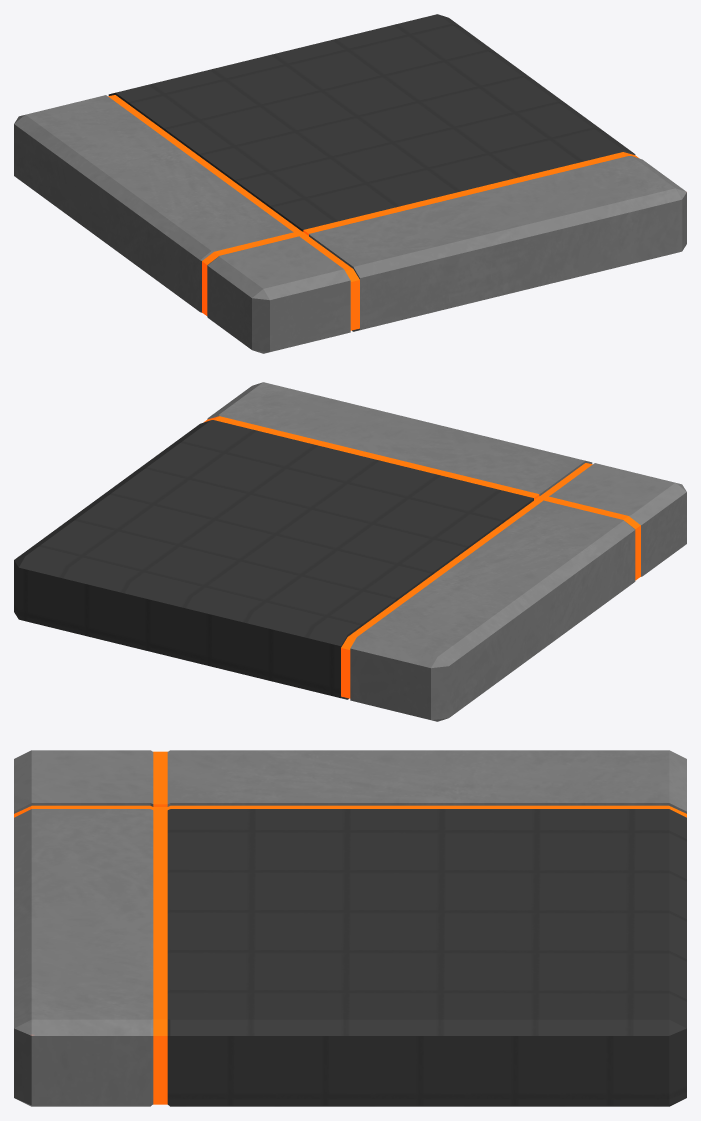
Rendered from tile_corner.fbx.
3 renders of one model, top to bottom at view 1: azimuth 30°, elevation 25°; view 2: azimuth 150°, elevation 25°; view 3: azimuth 270°, elevation 25°, orthographic. The views are drawn at different scales.
Parts seen in each view (by area): view 1: tile_corner; view 2: tile_corner; view 3: tile_corner.
Boxes of the visible parts, left/top/right/bottom form: tile_corner: left=14, top=14, right=686, bottom=353; tile_corner: left=14, top=382, right=686, bottom=721; tile_corner: left=14, top=750, right=686, bottom=1106.
Size of the model in its own units: 2 by 0.2854 by 2.
